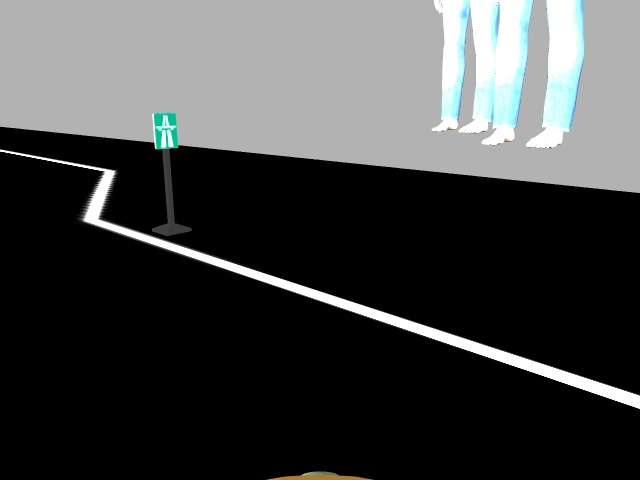HighwayEntrance: (152, 112, 177, 147)
